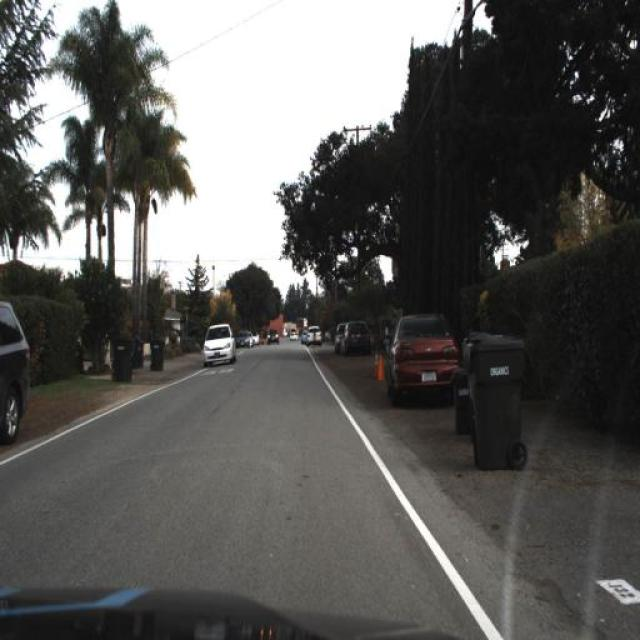car: (382, 311, 461, 404), (390, 314, 460, 396), (1, 296, 33, 446), (200, 322, 236, 366), (201, 323, 235, 366), (304, 323, 324, 348)
